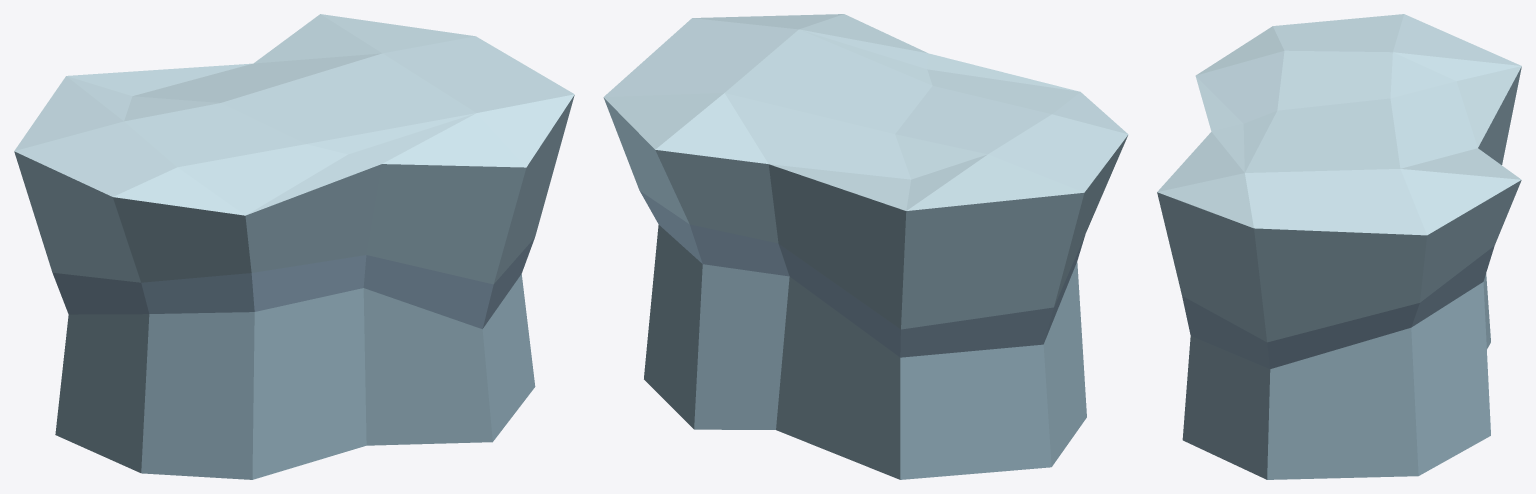
The model's file is SM_Env_Viking_Iceberg_02_Snow.fbx.
3 views of the same model, side by side, from view 1: azimuth 30°, elevation 25°; view 2: azimuth 150°, elevation 25°; view 3: azimuth 270°, elevation 25° (orthographic). The views are drawn at different scales.
Parts seen in each view (by area): view 1: SM_Env_Viking_Iceberg_02_Snow; view 2: SM_Env_Viking_Iceberg_02_Snow; view 3: SM_Env_Viking_Iceberg_02_Snow.
Boxes of the visible parts, box(x1,y1,x2,y2) form: SM_Env_Viking_Iceberg_02_Snow: box(14, 14, 574, 479); SM_Env_Viking_Iceberg_02_Snow: box(603, 14, 1128, 479); SM_Env_Viking_Iceberg_02_Snow: box(1157, 14, 1521, 479).
Size of the model in its own units: 99.23 by 59.39 by 71.36.
Materials: 1 (1 with a texture image).
